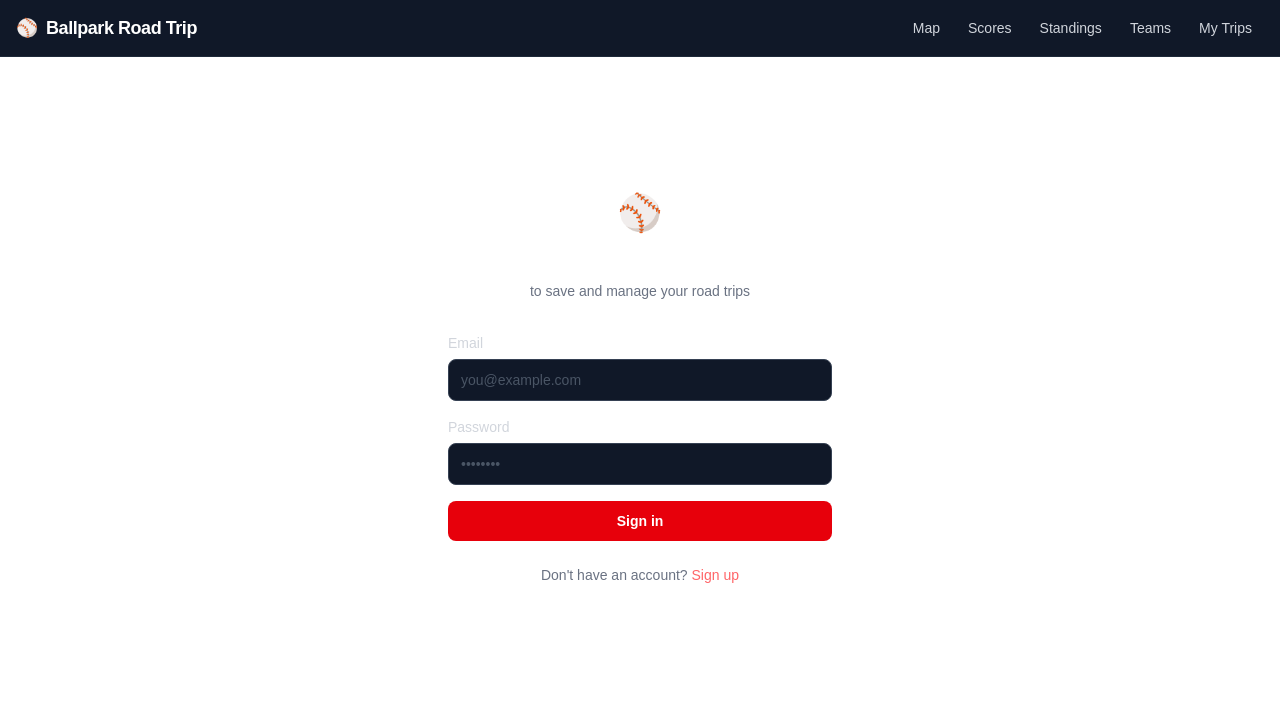
Test: Login › shows error on invalid credentials
This screenshot has width=1280, height=720.
Type "notauser@example.com" into the field with test id "login-email".
click(640, 380); type("notauser@example.com")  # box [448,359,832,401]
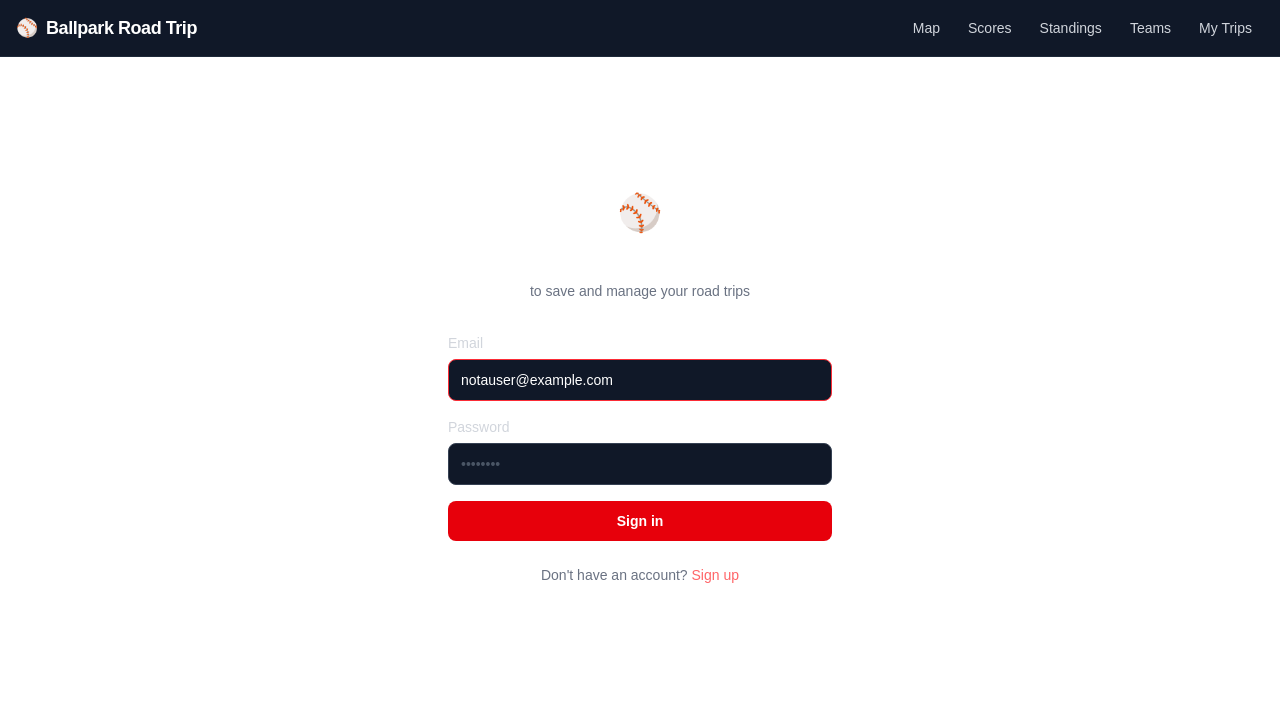
Type "wrongpassword" into the password field with test id "login-password".
click(640, 464); type("wrongpassword")  # box [448,443,832,485]
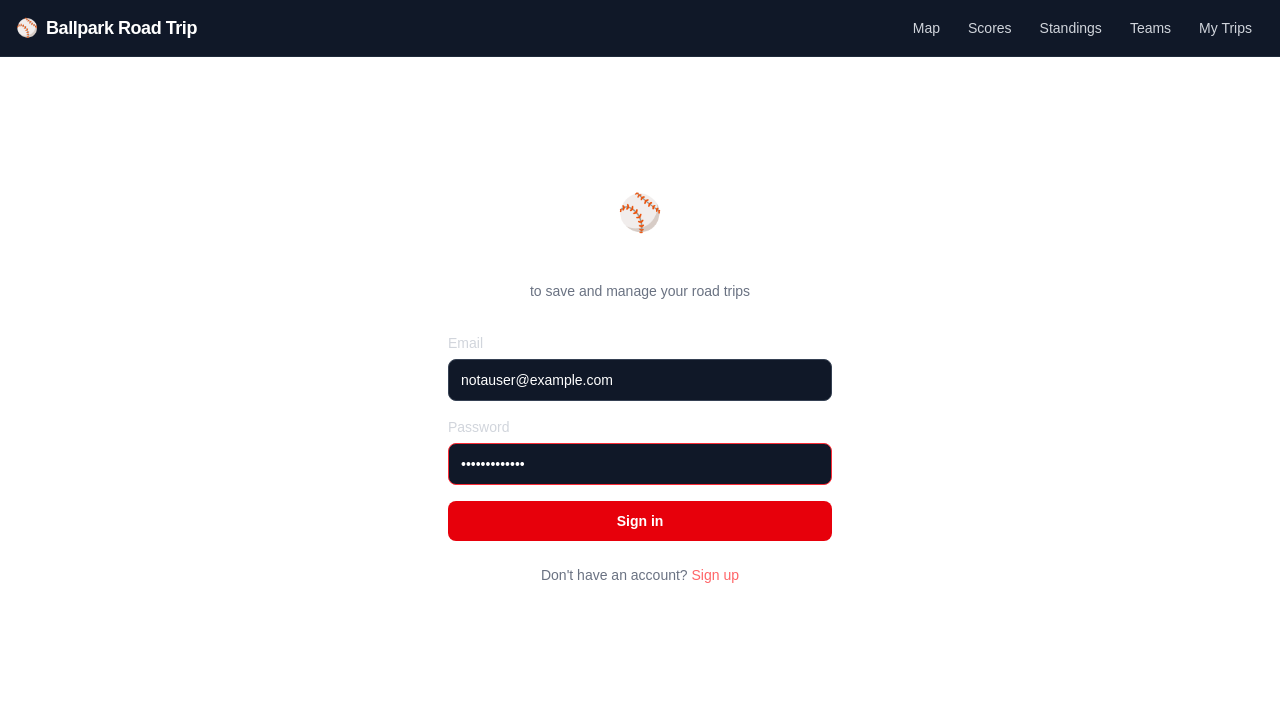
Click the button with test id "login-submit".
click(640, 521)  # box [448,501,832,541]
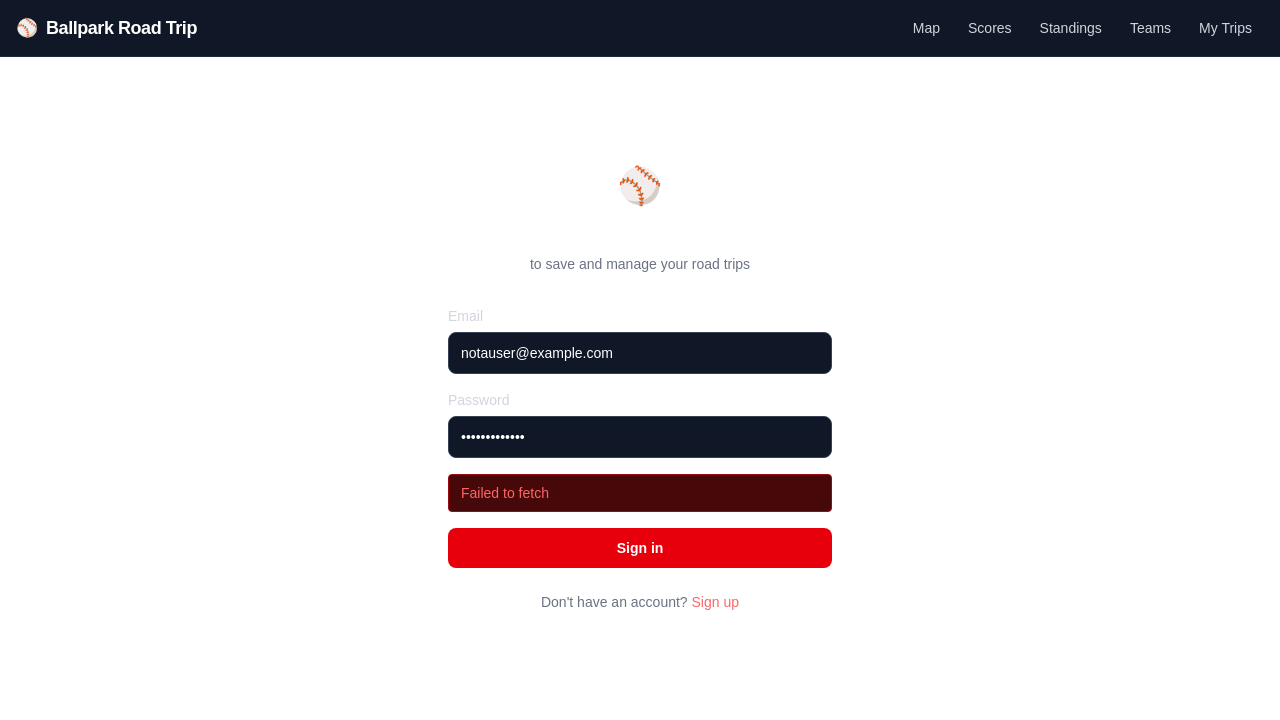
expect the text "Failed to fetch" is shown: met, box [448,474,832,512]
